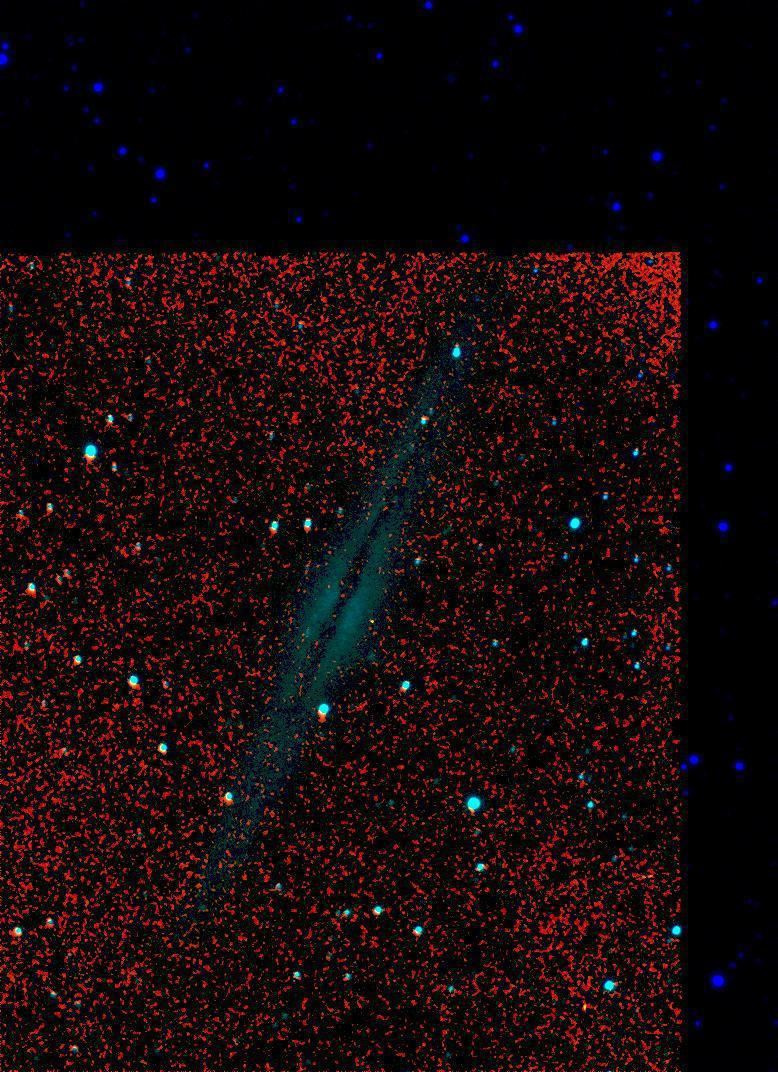star: (356, 611, 386, 641)
